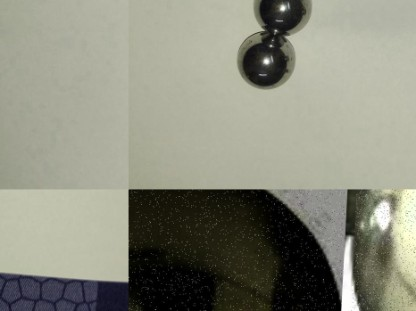ironball: (128, 189, 348, 311), (347, 189, 415, 311), (233, 27, 296, 91), (249, 0, 316, 42)
